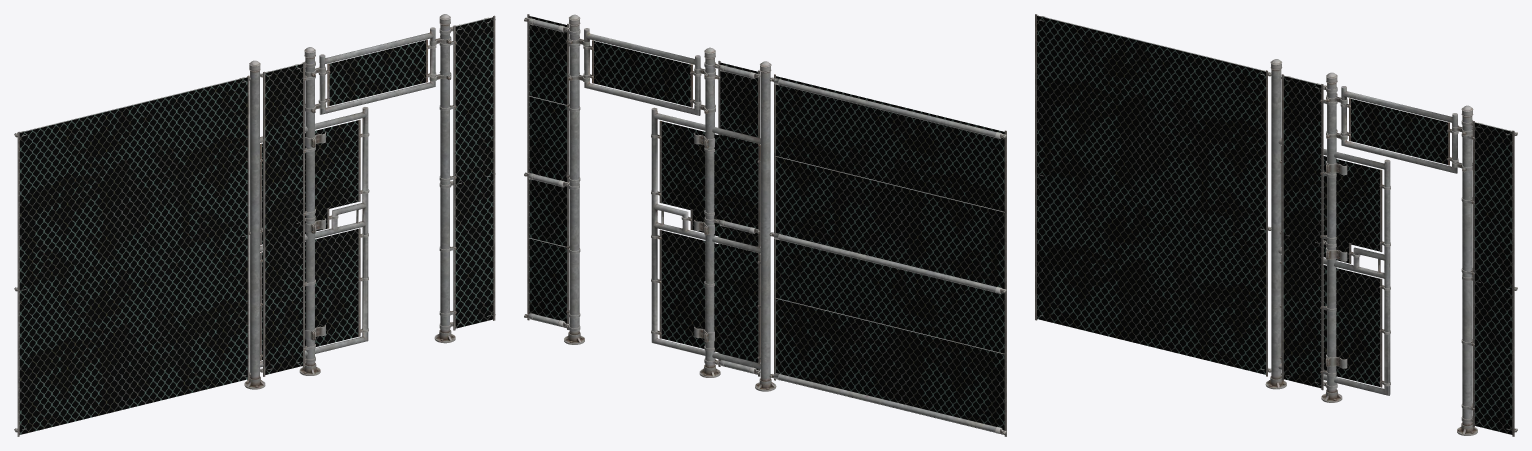
Rendered from modular_chainlink_fence.glb.
The picture shows the model from 3 angles, left to right: view 1: azimuth 30°, elevation 25°; view 2: azimuth 150°, elevation 25°; view 3: azimuth 330°, elevation 25°; orthographic projection.
Visible parts, largest first — view 1: modular_chainlink_fence_double, modular_chainlink_fence_door_frame, modular_chainlink_fence_door_gate, modular_chainlink_fence_post; view 2: modular_chainlink_fence_double, modular_chainlink_fence_door_frame, modular_chainlink_fence_door_gate, modular_chainlink_fence_post; view 3: modular_chainlink_fence_double, modular_chainlink_fence_door_frame, modular_chainlink_fence_door_gate, modular_chainlink_fence_post.
Part boxes in pixels (left/top/right/bottom): modular_chainlink_fence_double: left=14, top=75, right=250, bottom=436; modular_chainlink_fence_door_frame: left=260, top=14, right=495, bottom=376; modular_chainlink_fence_door_gate: left=259, top=107, right=369, bottom=367; modular_chainlink_fence_post: left=244, top=60, right=265, bottom=389; modular_chainlink_fence_double: left=769, top=74, right=1006, bottom=436; modular_chainlink_fence_door_frame: left=524, top=14, right=760, bottom=377; modular_chainlink_fence_door_gate: left=651, top=107, right=760, bottom=369; modular_chainlink_fence_post: left=755, top=61, right=776, bottom=391; modular_chainlink_fence_double: left=1035, top=14, right=1271, bottom=376; modular_chainlink_fence_door_frame: left=1281, top=72, right=1517, bottom=436; modular_chainlink_fence_door_gate: left=1278, top=138, right=1390, bottom=395; modular_chainlink_fence_post: left=1265, top=59, right=1286, bottom=389.
Bounding box in the file's own units: 3.91 × 2.52 × 0.1493.
2 materials, 2 textured.
